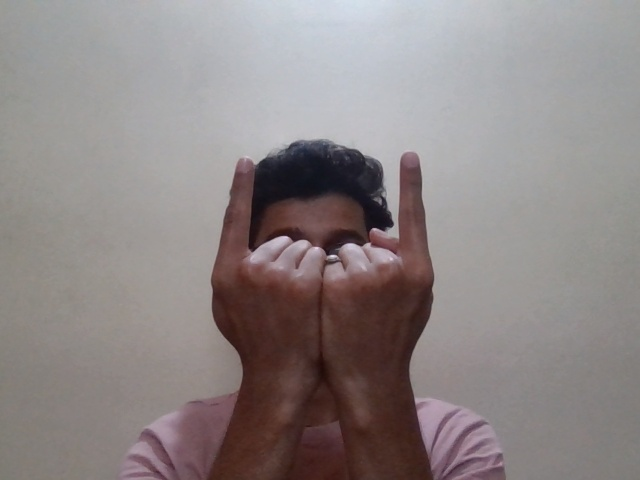when: (214, 139, 459, 379)
